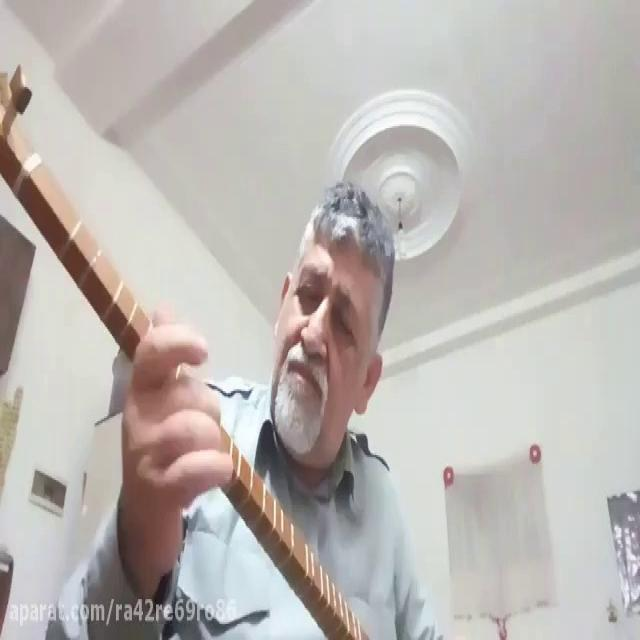Setar: (4, 46, 381, 640)
